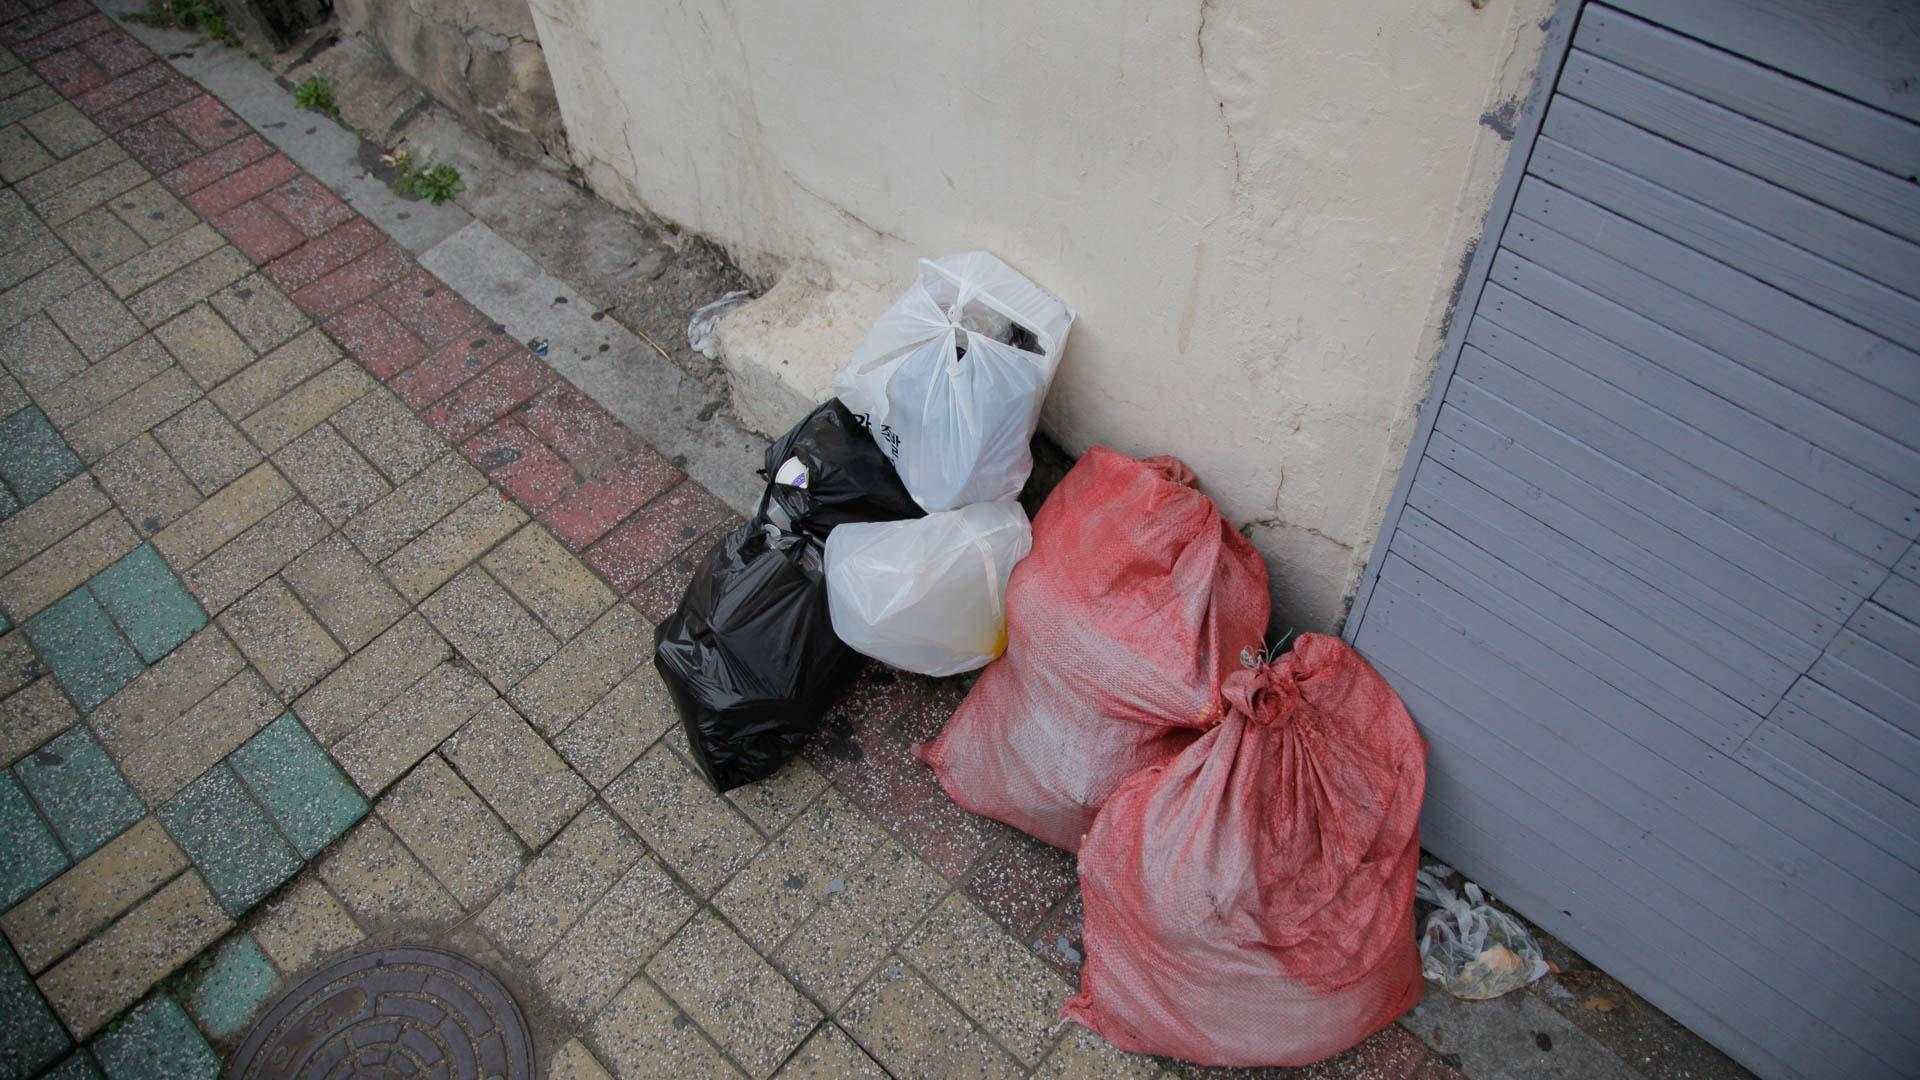black_bag: (638, 513, 856, 799), (742, 396, 934, 556)
white_bag: (836, 236, 1087, 516), (820, 495, 1040, 679)
